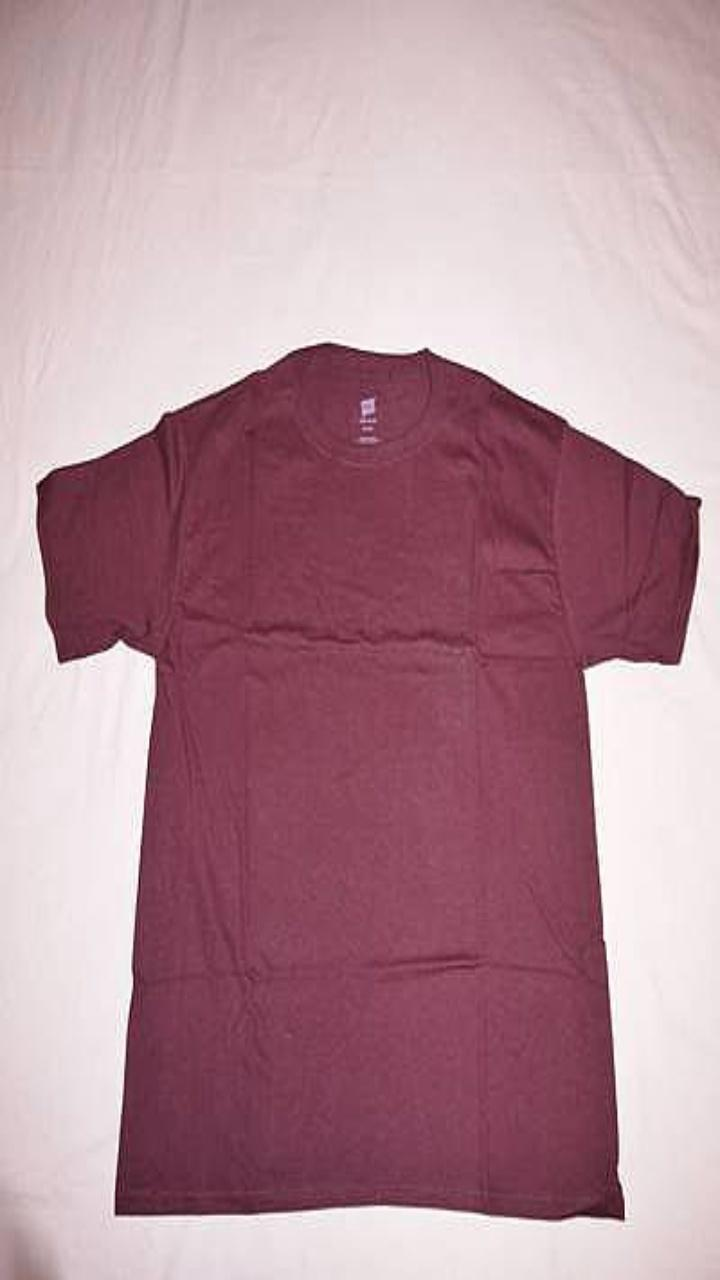T-Shirt: (37, 342, 700, 1218)
